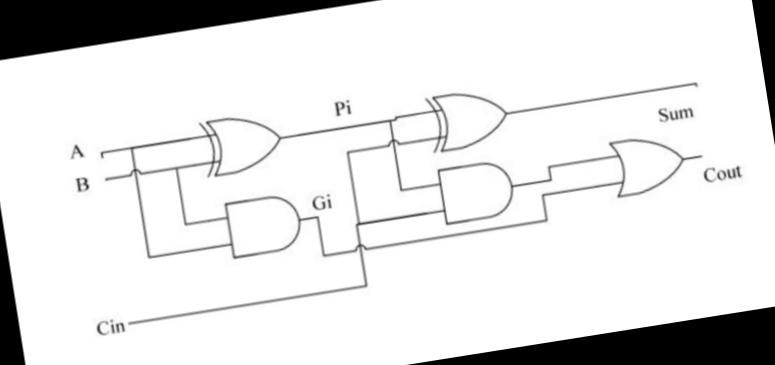and: (218, 182, 308, 263), (429, 154, 519, 230)
or: (606, 124, 690, 202)
xor: (190, 100, 288, 181), (418, 78, 516, 156)
